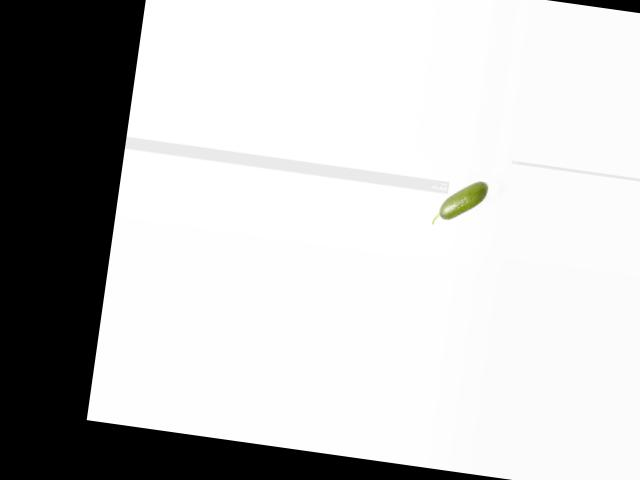cucumber: (430, 174, 488, 230)
